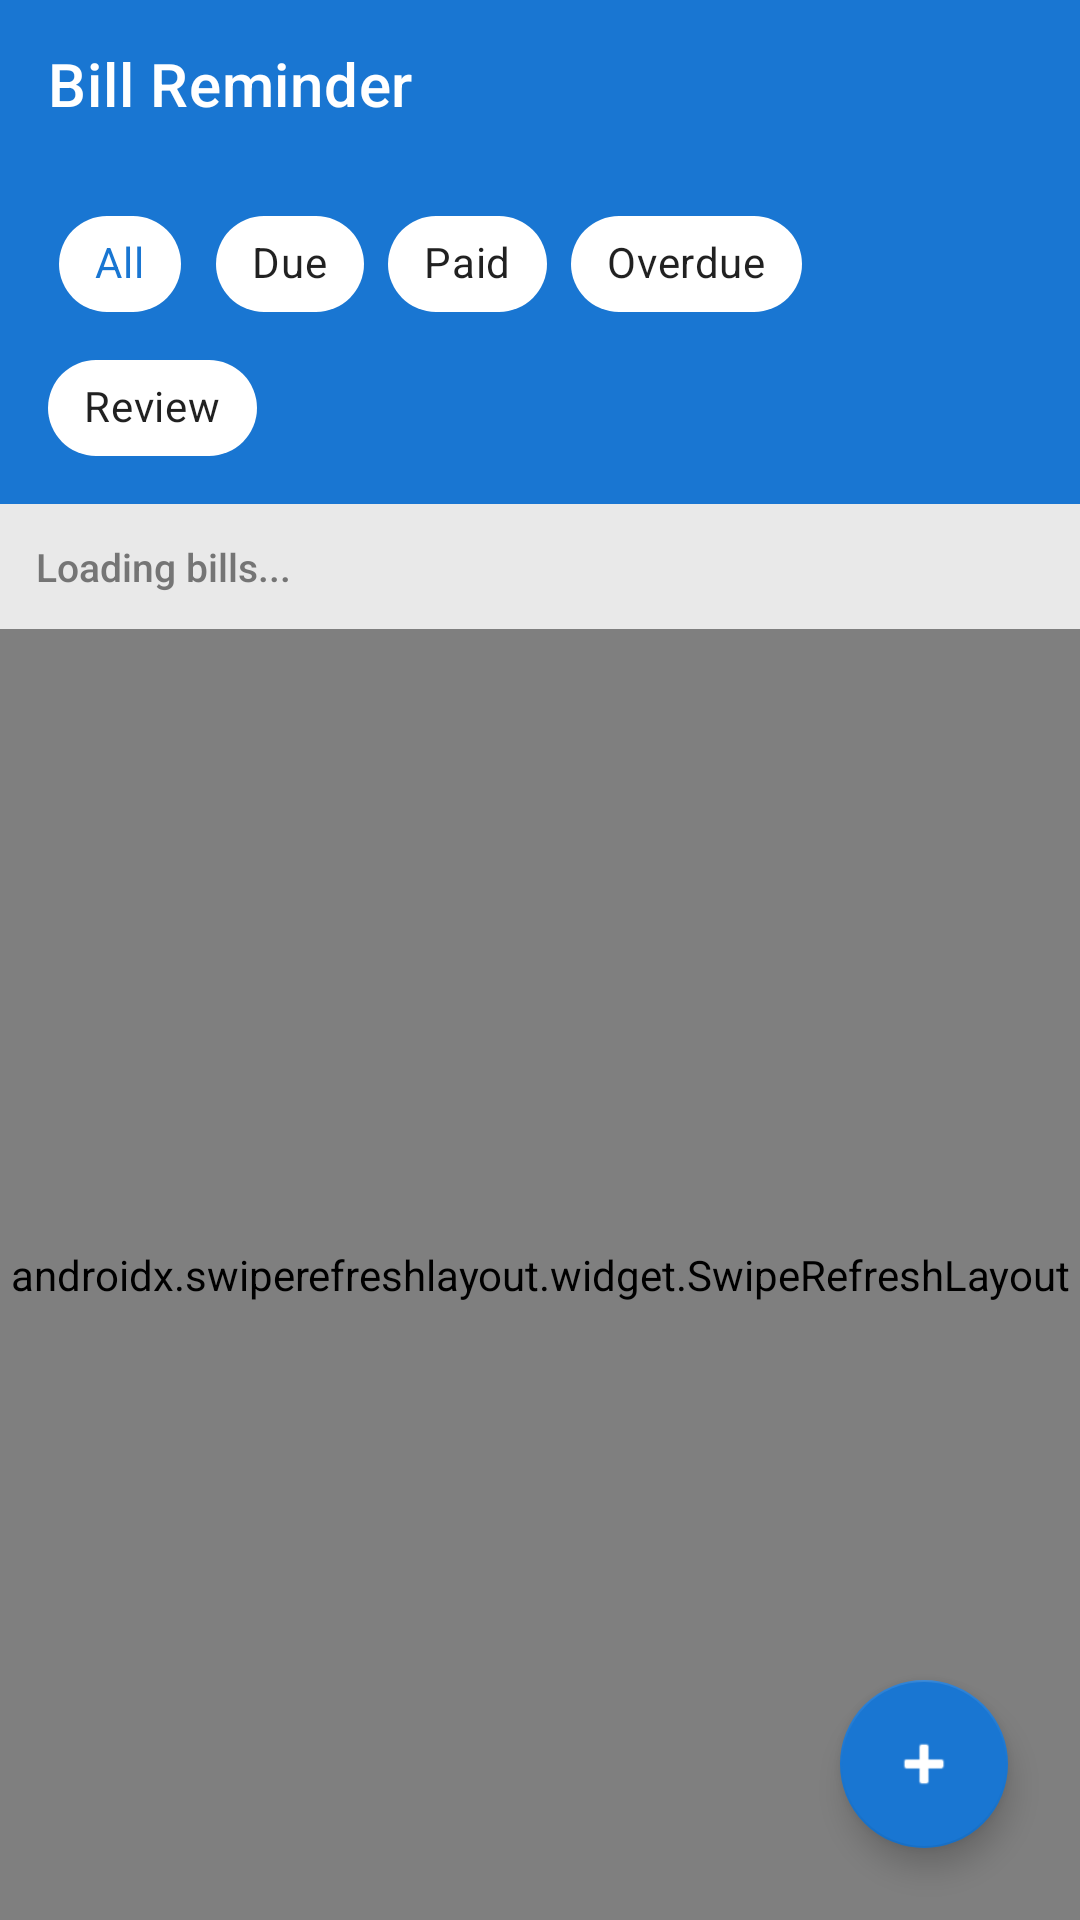

Point at icon controls on the screen. Image size 1080 x 1920, points as (x=x, y=y).
Add bill: (x=924, y=1764)
